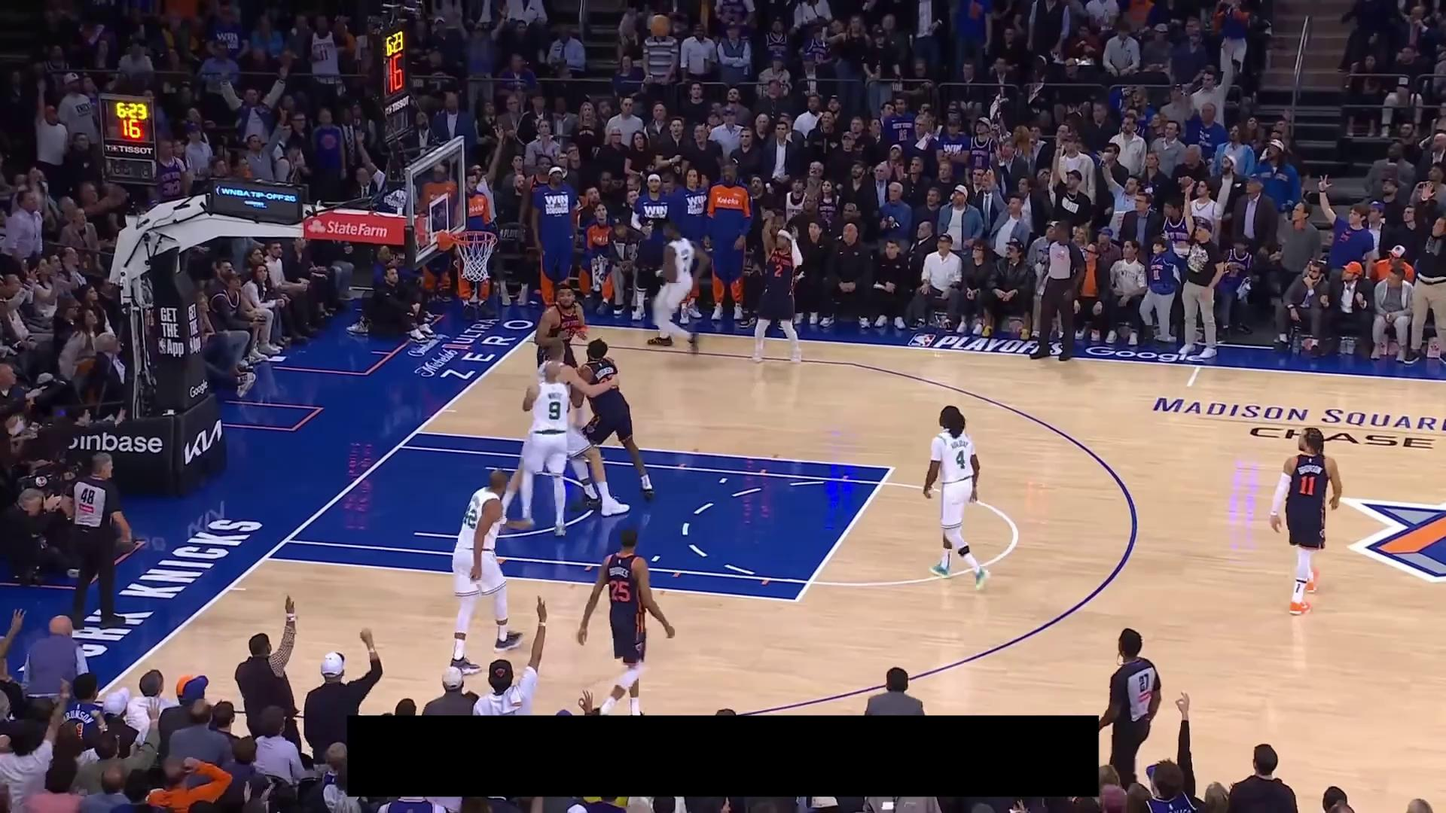ball: (648, 14, 671, 37)
number: (610, 580, 631, 602), (1298, 475, 1316, 496), (463, 507, 479, 529), (548, 400, 562, 421), (955, 449, 967, 469), (563, 325, 579, 340), (681, 255, 690, 274), (774, 264, 783, 278)
player: (491, 339, 631, 525), (575, 526, 676, 715), (441, 465, 526, 675), (571, 336, 657, 512), (1268, 425, 1343, 617), (923, 405, 990, 592), (506, 359, 571, 537), (642, 221, 710, 354), (748, 209, 805, 364), (534, 283, 590, 370)
referee: (61, 450, 133, 632), (1097, 628, 1162, 793), (1027, 220, 1090, 362)
rim: (452, 230, 498, 245)
